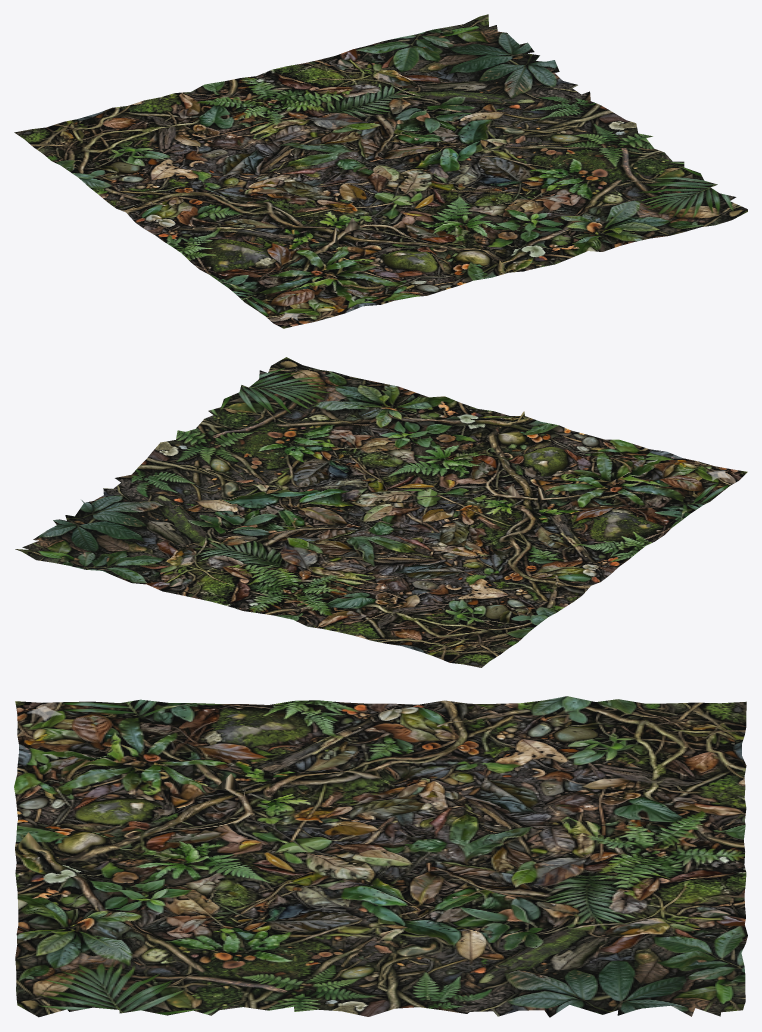
Rendered from jungle_ground_tile.glb.
The picture shows the model from 3 angles, top to bottom: view 1: azimuth 30°, elevation 25°; view 2: azimuth 150°, elevation 25°; view 3: azimuth 270°, elevation 25°; orthographic projection. The views are drawn at different scales.
Parts seen in each view (by area): view 1: jungle_ground_tile; view 2: jungle_ground_tile; view 3: jungle_ground_tile.
Part boxes in pixels (left/top/right/bottom): jungle_ground_tile: left=14, top=14, right=747, bottom=328; jungle_ground_tile: left=15, top=357, right=747, bottom=667; jungle_ground_tile: left=14, top=696, right=747, bottom=1017.
Bounding box in the file's own units: 1.97 × 0.0603 × 1.95.
1 material, 1 textured.
